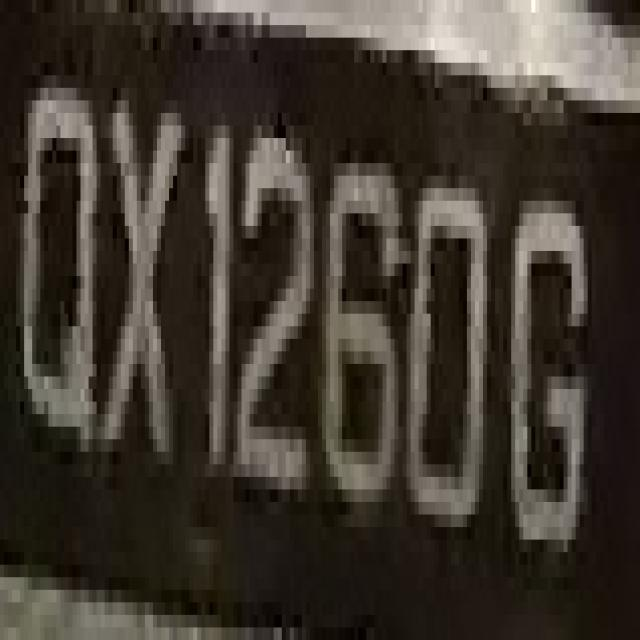0: (411, 163, 495, 577)
1: (206, 75, 242, 540)
2: (245, 75, 310, 527)
6: (318, 100, 407, 502)
G: (507, 163, 592, 590)
Q: (28, 63, 109, 464)
X: (101, 62, 185, 514)
